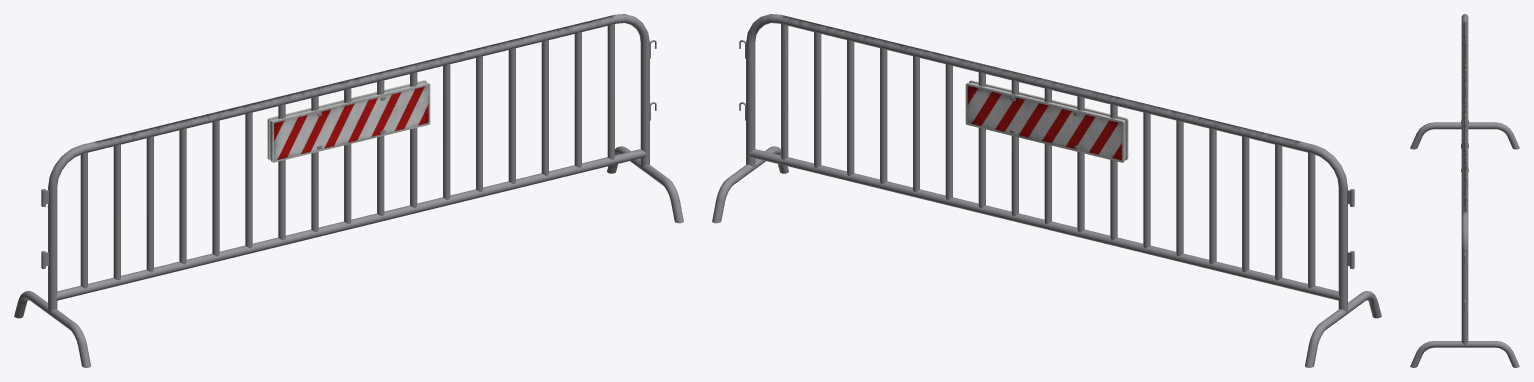
The model's file is metal_barrier.glb.
The picture shows the model from 3 angles, left to right: view 1: azimuth 30°, elevation 25°; view 2: azimuth 150°, elevation 25°; view 3: azimuth 270°, elevation 25°; orthographic projection. The views are drawn at different scales.
Visible parts, largest first — view 1: METAL_BARRIER; view 2: METAL_BARRIER; view 3: METAL_BARRIER.
Boxes of the visible parts, x1,y1,x2,y2 form: METAL_BARRIER: [14, 14, 683, 367]; METAL_BARRIER: [712, 14, 1381, 367]; METAL_BARRIER: [1410, 14, 1519, 367].
Bounding box in the file's own units: 3.11 × 0.9124 × 0.6371.
Materials: 1 (1 with a texture image).
